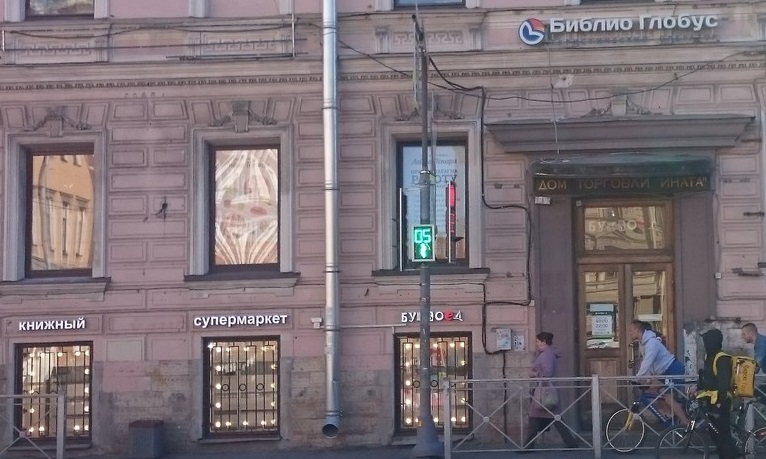signboard: (516, 12, 718, 47), (192, 314, 289, 328), (18, 317, 89, 332)
window: (208, 144, 280, 274), (24, 152, 96, 278), (14, 344, 92, 446), (396, 333, 470, 433), (206, 338, 276, 437)
